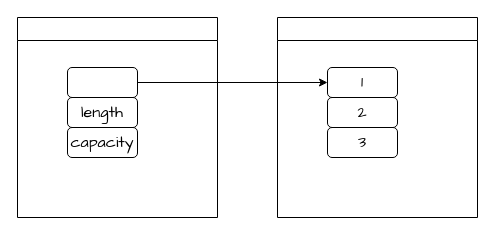
The diagram is 495 pixels wide and 235 high, and some of its shapes have lost their labels. The shapes that lost their labels are listed below. From the top down, each one's box as (x1, y1, x2, y2) in pixels, then its label:
(66, 66, 138, 98): ptr
(16, 16, 218, 218): Stack
(276, 16, 478, 218): Heap
